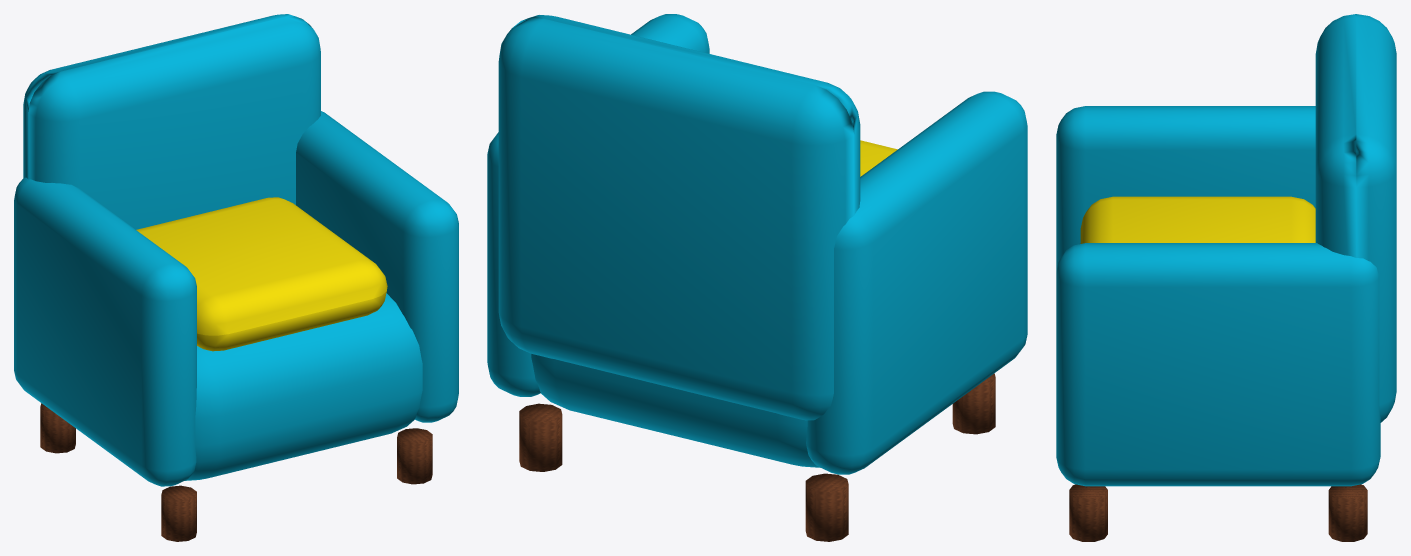
The model's file is armchair.glb.
3 views of the same model, side by side, from view 1: azimuth 30°, elevation 25°; view 2: azimuth 150°, elevation 25°; view 3: azimuth 270°, elevation 25° (orthographic). The views are drawn at different scales.
Parts seen in each view (by area): view 1: back, arm, seat, cush, arm.001, Cylinder.002, Cylinder, Cylinder.001; view 2: back, arm, seat, arm.001, Cylinder.001, Cylinder.003, Cylinder, cush; view 3: arm.001, arm, back, cush, Cylinder.003, Cylinder.002.
Boxes of the visible parts, box(x1,y1,x2,y2) form: back: box(23, 14, 320, 229); arm: box(14, 177, 196, 486); seat: box(185, 293, 422, 480); cush: box(136, 197, 387, 351); arm.001: box(296, 111, 458, 422); Cylinder.002: box(397, 428, 432, 484); Cylinder: box(161, 485, 196, 541); Cylinder.001: box(40, 403, 75, 453); back: box(498, 15, 860, 420); arm: box(806, 91, 1027, 474); seat: box(531, 354, 820, 467); arm.001: box(487, 14, 709, 396); Cylinder.001: box(805, 473, 848, 541); Cylinder.003: box(519, 403, 562, 471); Cylinder: box(952, 373, 995, 434); cush: box(860, 140, 897, 176); arm.001: box(1056, 243, 1380, 486); arm: box(1056, 106, 1315, 270); back: box(1315, 14, 1396, 422); cush: box(1080, 196, 1315, 243); Cylinder.003: box(1328, 484, 1367, 541); Cylinder.002: box(1069, 484, 1107, 541).
Bounding box in the file's own units: 0.24 × 0.27 × 0.21.
3 materials, 1 textured.
